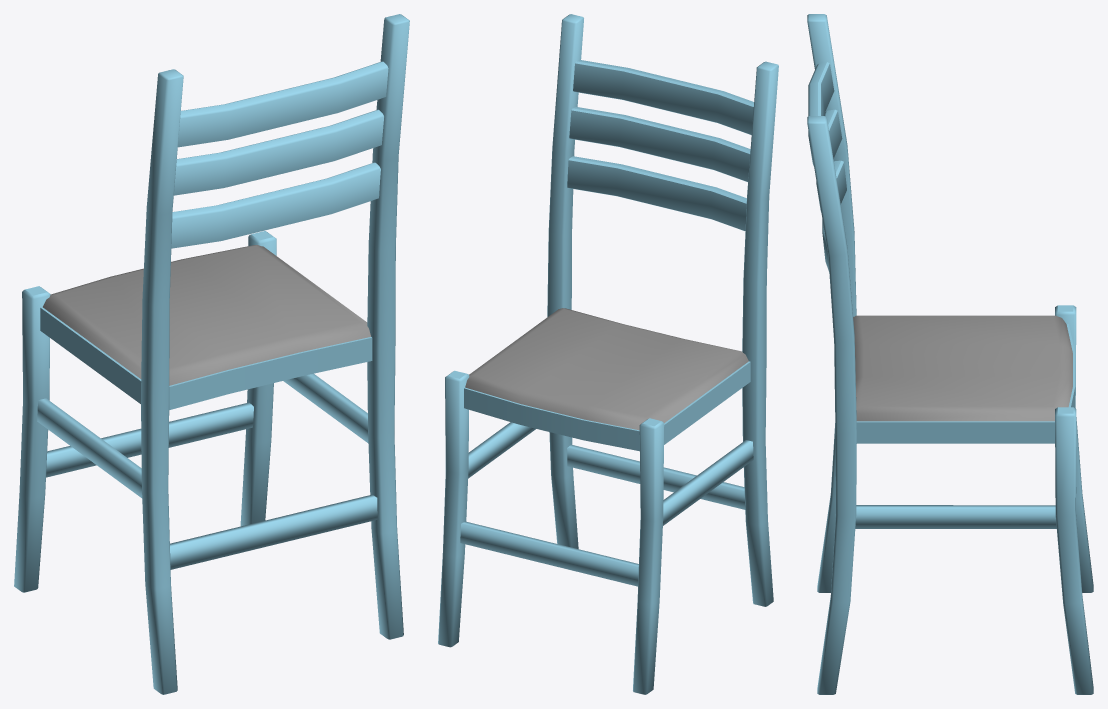
The model's file is FURNITURE_chair_01.FBX.
The picture shows the model from 3 angles, left to right: view 1: azimuth 30°, elevation 25°; view 2: azimuth 150°, elevation 25°; view 3: azimuth 270°, elevation 25°; orthographic projection. The views are drawn at different scales.
Visible parts, largest first — view 1: FURNITURE_chair_01; view 2: FURNITURE_chair_01; view 3: FURNITURE_chair_01.
Part boxes in pixels (x1,y1,x2,y2): FURNITURE_chair_01: (14, 14, 409, 694); FURNITURE_chair_01: (438, 14, 778, 694); FURNITURE_chair_01: (807, 14, 1093, 694).
Bounding box in the file's own units: 56.96 × 138 × 62.34.
